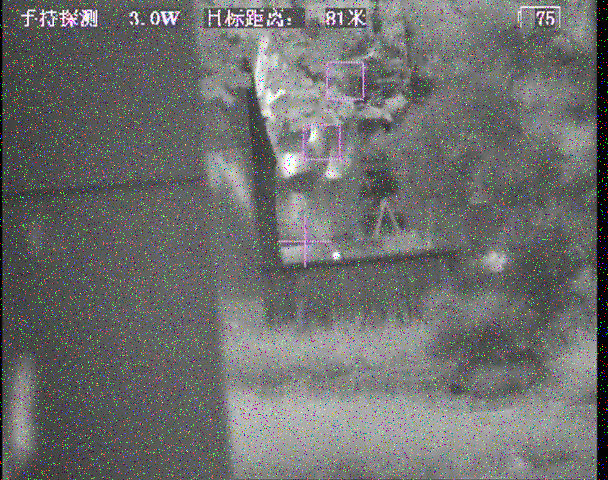my: (331, 250, 340, 260)
